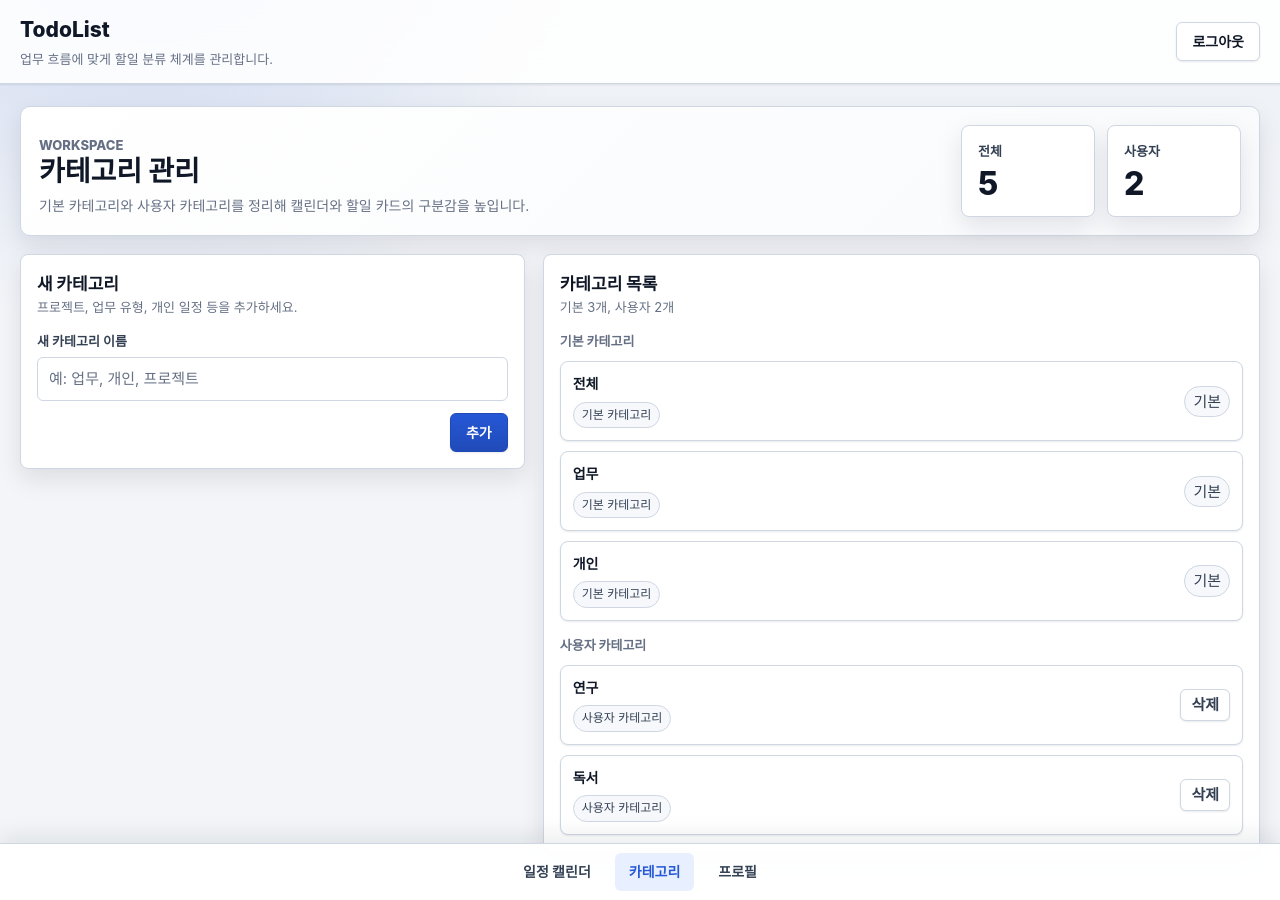
Test case: CategoryPage › 할일 있는 카테고리 삭제(409 CATEGORY_HAS_TODOS) 시 인라인 오류가 표시된다
Click the button with aria-label "삭제: 연구": (1205, 705) [1180,689,1230,721]
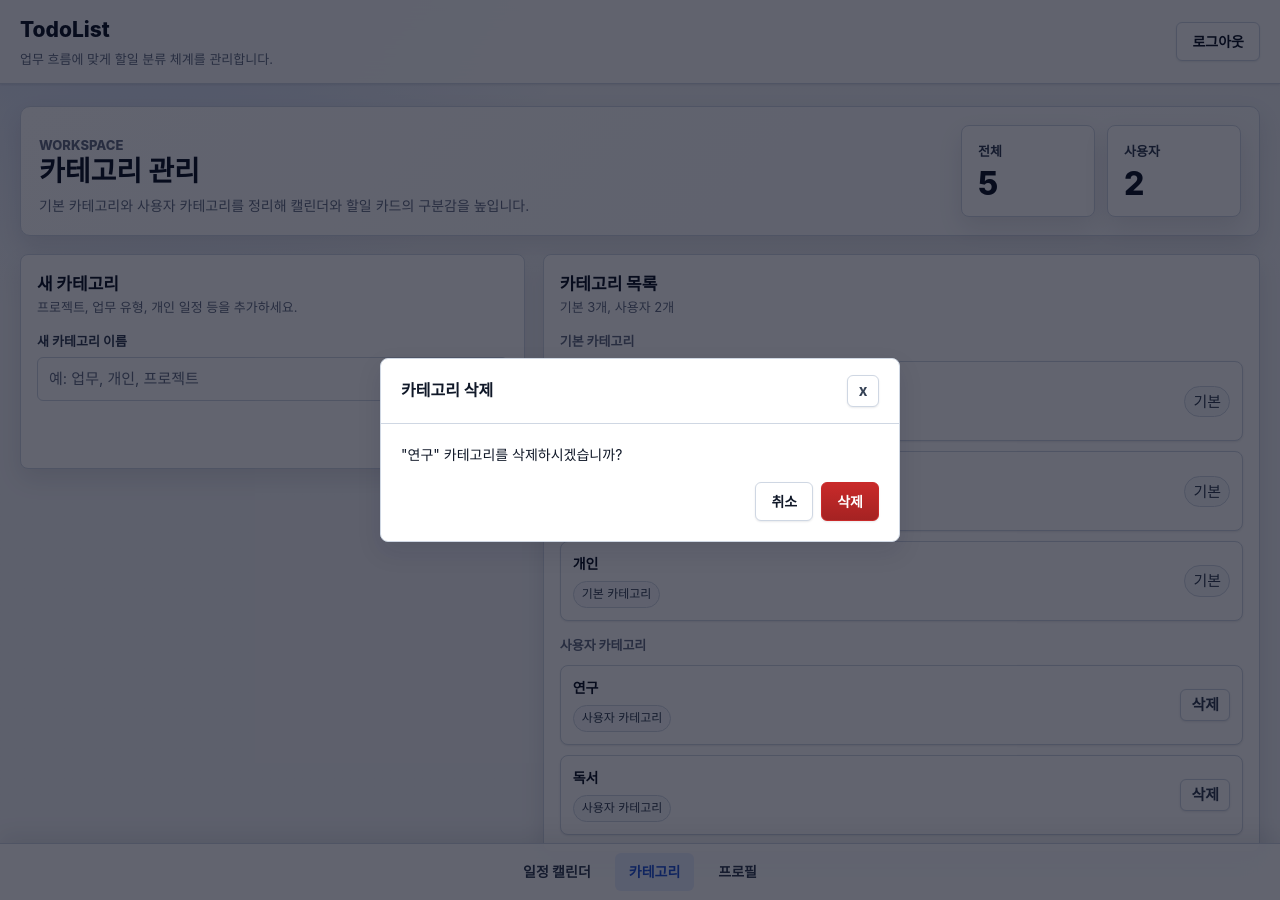
Click the button "삭제": (850, 501) [821,482,879,521]
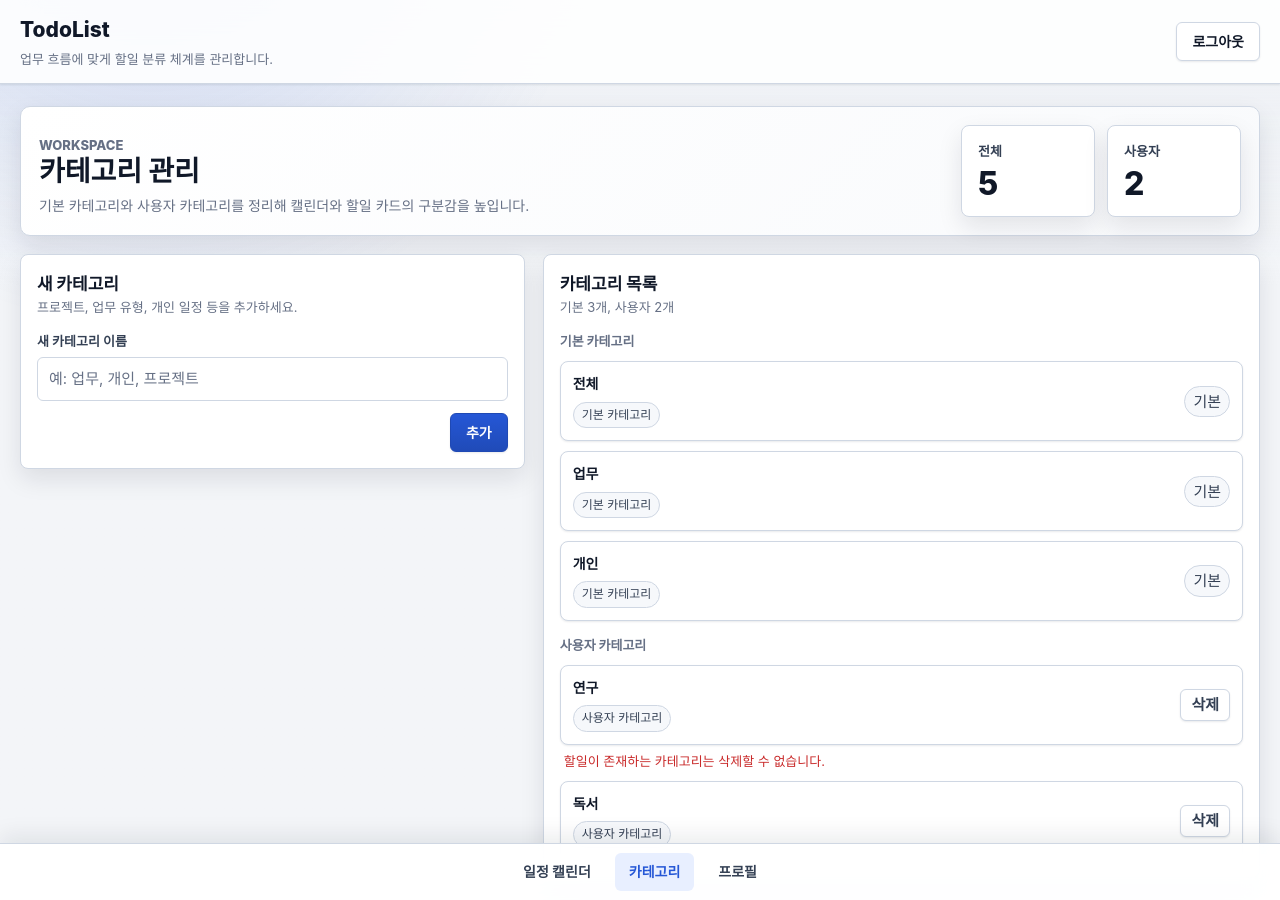
expect the text "할일이 존재하는 카테고리는 삭제할 수 없습니다." is shown: met, box [564,753,825,769]
